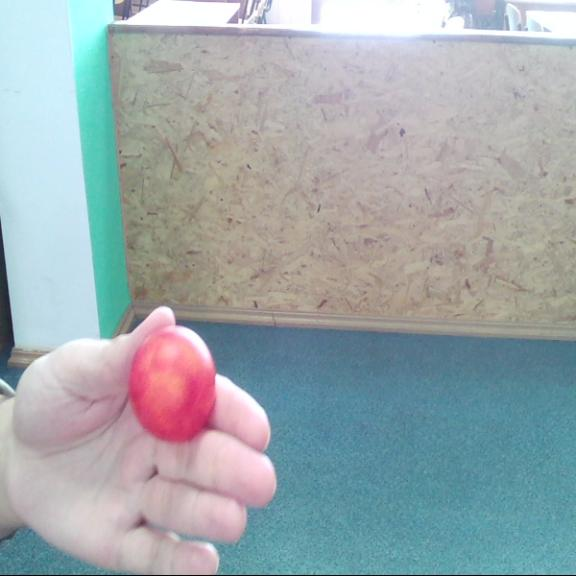ball: (131, 324, 218, 442)
